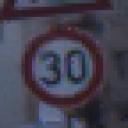speed_limit_30: (22, 24, 106, 110)
